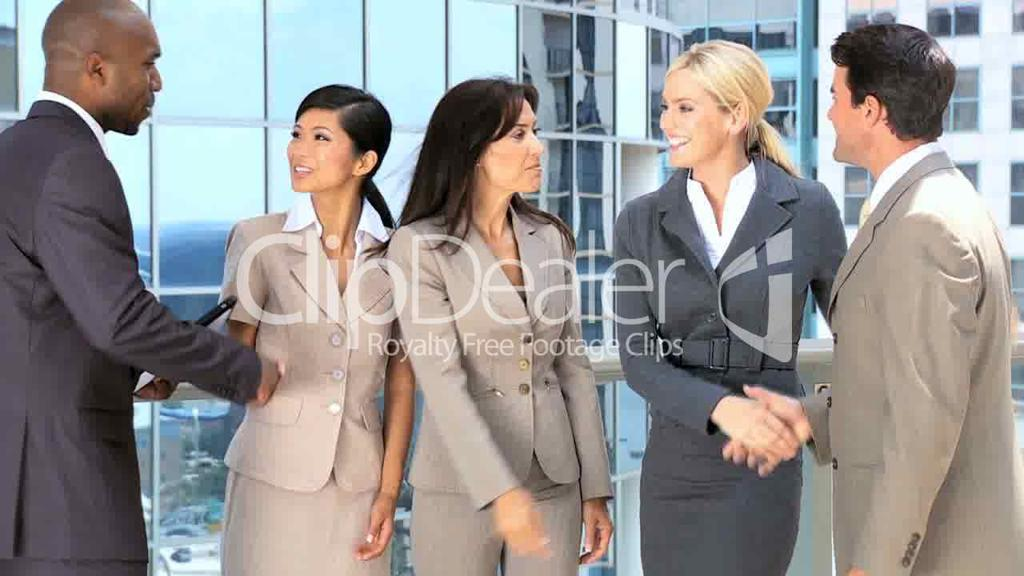face: (95, 35, 160, 134), (659, 75, 729, 166), (475, 105, 540, 190), (287, 111, 353, 190), (828, 69, 882, 158)
